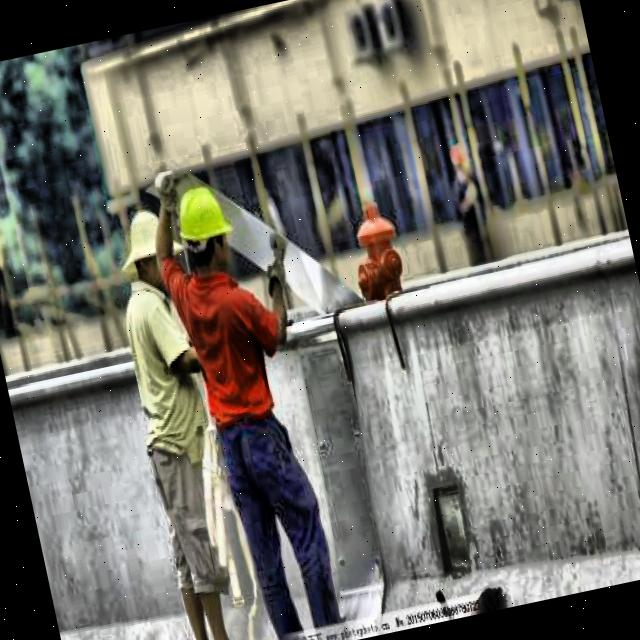helmet: (159, 169, 246, 288)
